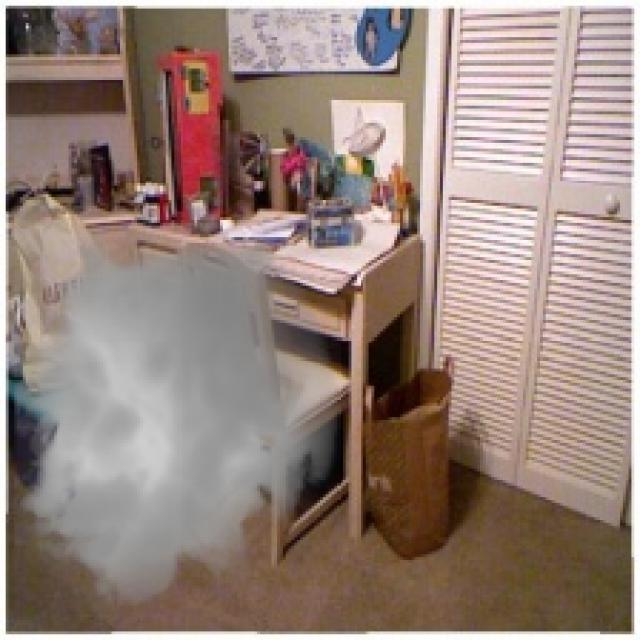smoke: (0, 223, 352, 621)
